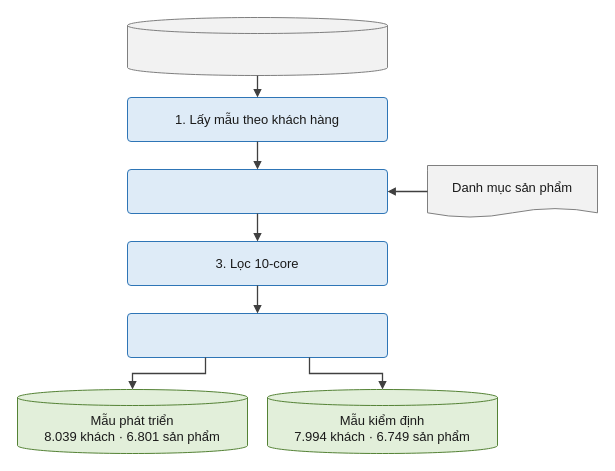
Some shapes in this 615 by 471 pixel diagram are drawn without their labels. Each missing label, with the centre of its shape:
2. Gộp màu, gộp cặp: point (257, 191)
4. Chia theo thời gian: point (257, 335)
Giao dịch H&M 31,8 triệu giao dịch: point (257, 46)
